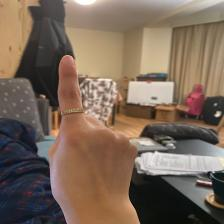one: (42, 52, 142, 214)
